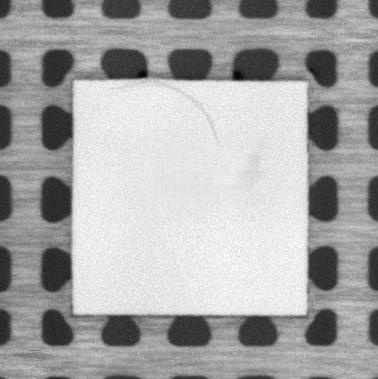DIE_CRACK: (113, 79, 223, 147)
